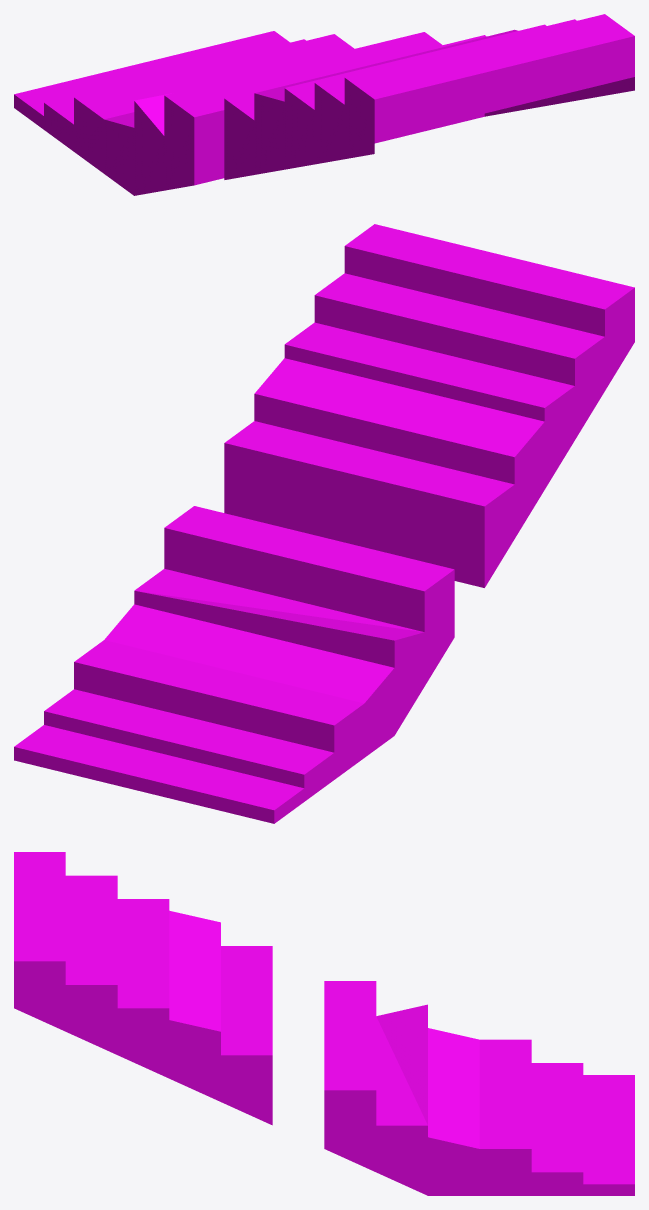
The model's file is rocksteps.obj.
3 renders of one model, top to bottom at view 1: azimuth 30°, elevation 25°; view 2: azimuth 150°, elevation 25°; view 3: azimuth 270°, elevation 25°, orthographic. The views are drawn at different scales.
Visible parts, largest first — view 1: rocksteps_back; view 2: rocksteps_back; view 3: rocksteps_back.
Part boxes in pixels (x1=…): rocksteps_back: x1=14, y1=14, x2=634, y2=195; rocksteps_back: x1=14, y1=224, x2=634, y2=823; rocksteps_back: x1=14, y1=852, x2=634, y2=1195.
Bounding box in the file's own units: 1.6 × 1.6 × 3.84.
